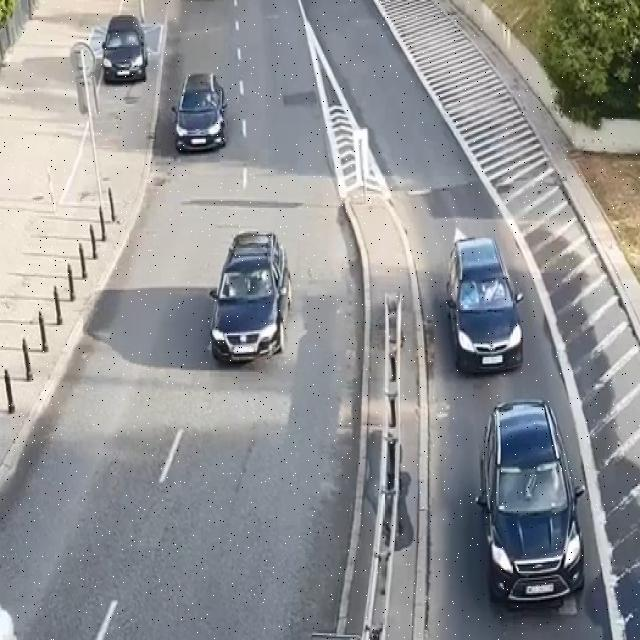car: (478, 400, 584, 602), (210, 232, 292, 361), (448, 238, 522, 372), (172, 74, 225, 151), (102, 15, 148, 82)
